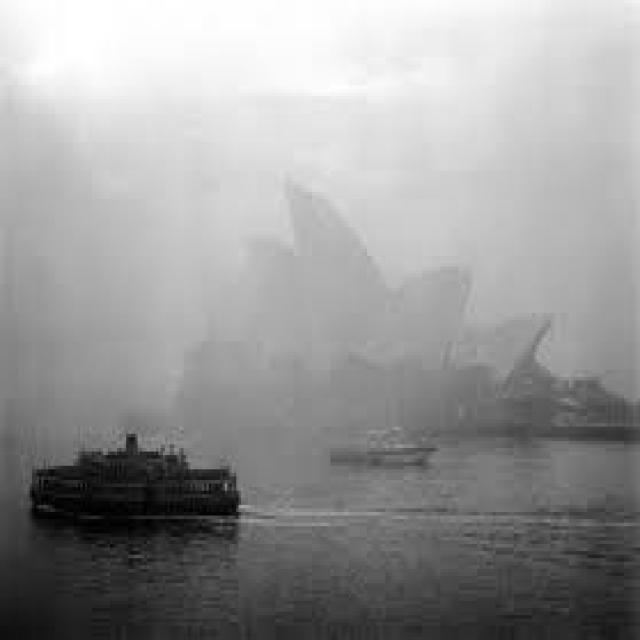passenger ship: (22, 442, 256, 575), (318, 416, 440, 466)
